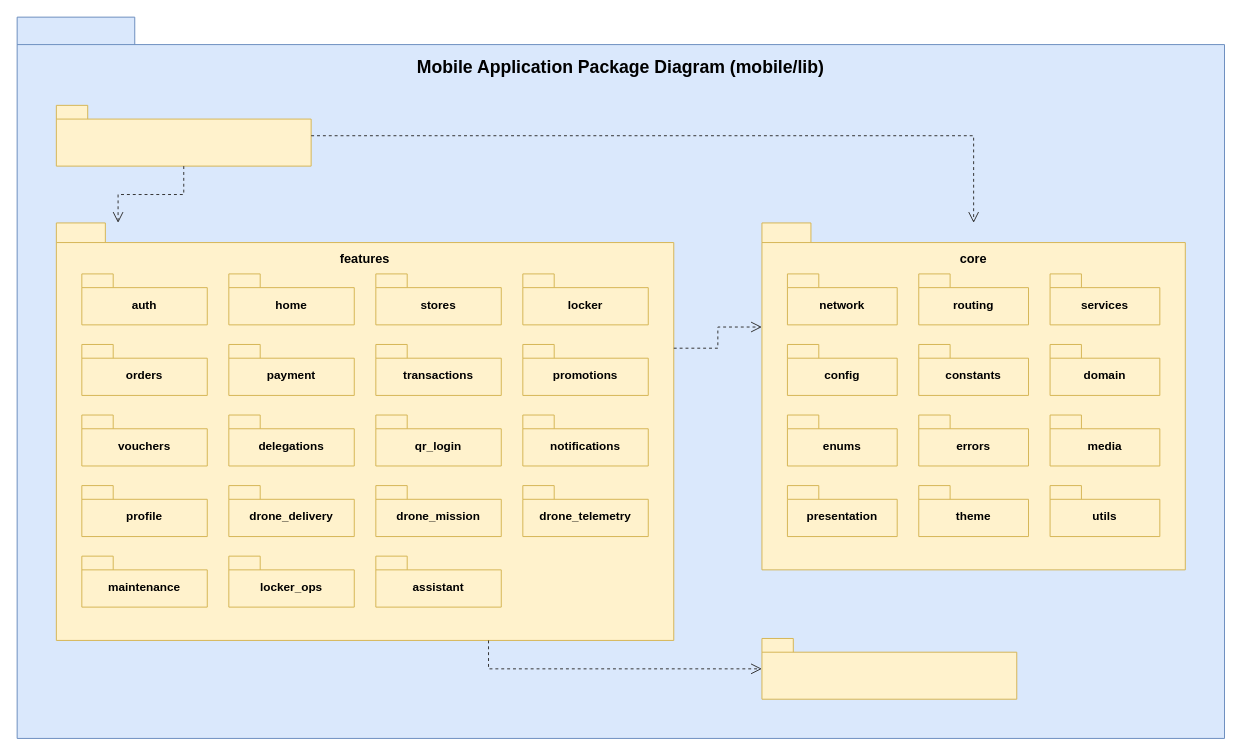
This 1242x756 diagram has some shape labels left out. The centre of each missing label's shape, as x and y in pixels:
"main.dart · injection_container" goes at [183,135].
"shared (widgets, icons, utils)" goes at [889,668].
